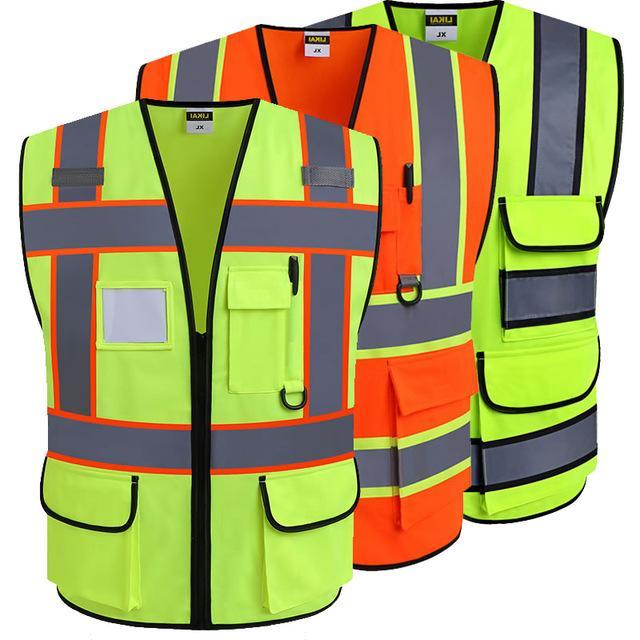Reflective-Jacket: (116, 19, 504, 582), (15, 92, 380, 621), (345, 1, 612, 530)
